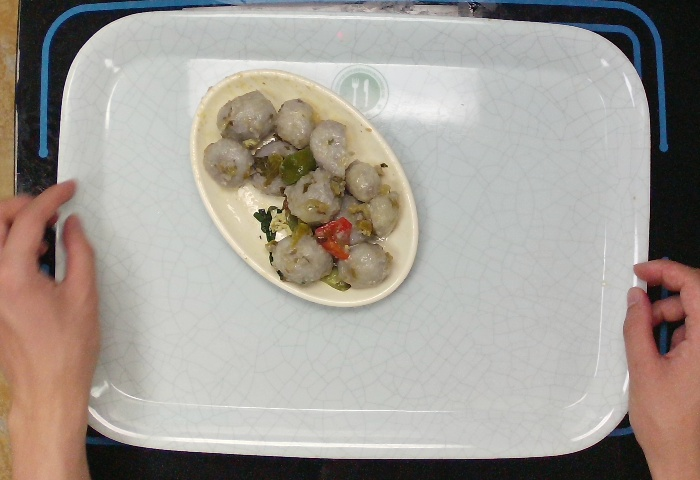JYsf-Tuo_Yuan_Wan: (185, 66, 423, 311)
